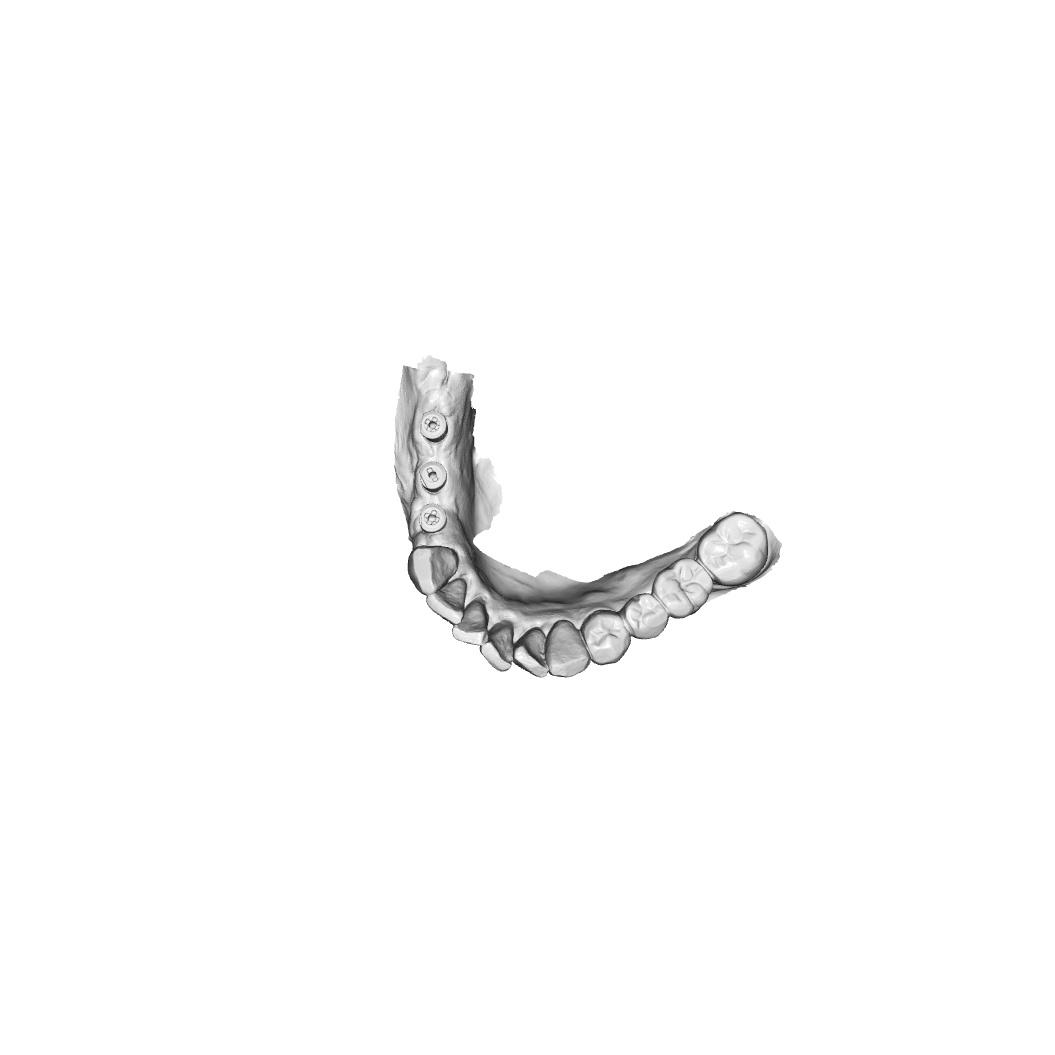canine: (544, 619, 592, 678), (406, 545, 460, 597)
implant_minus: (418, 459, 448, 493)
implant_plus: (418, 409, 449, 444), (417, 502, 448, 535)
incisor: (478, 618, 514, 674), (426, 579, 468, 626), (512, 627, 548, 679), (451, 600, 489, 648)
molar: (696, 511, 769, 587), (651, 556, 713, 620)
premolar: (580, 608, 632, 666), (621, 592, 669, 640)
